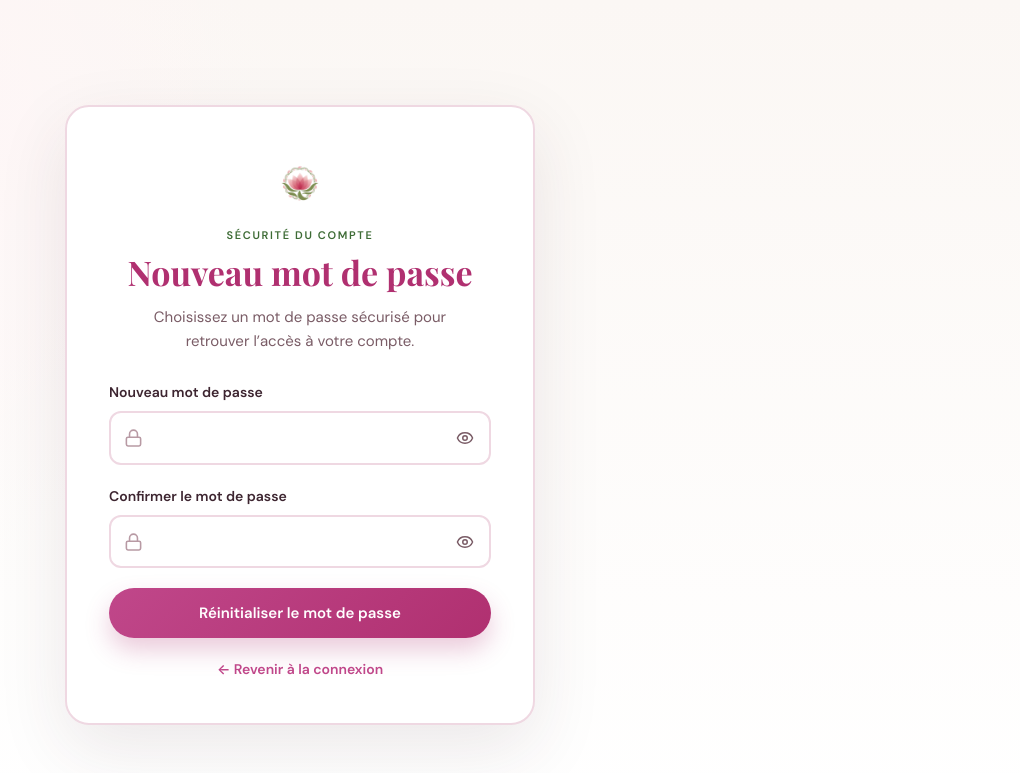
Test: Flora et récupération de compte › réinitialise un mot de passe valide
This screenshot has width=1020, height=773.
Type "LongPassword123!" into the password field labelled "Nouveau mot de passe" at [300, 438], box [109, 411, 491, 464]
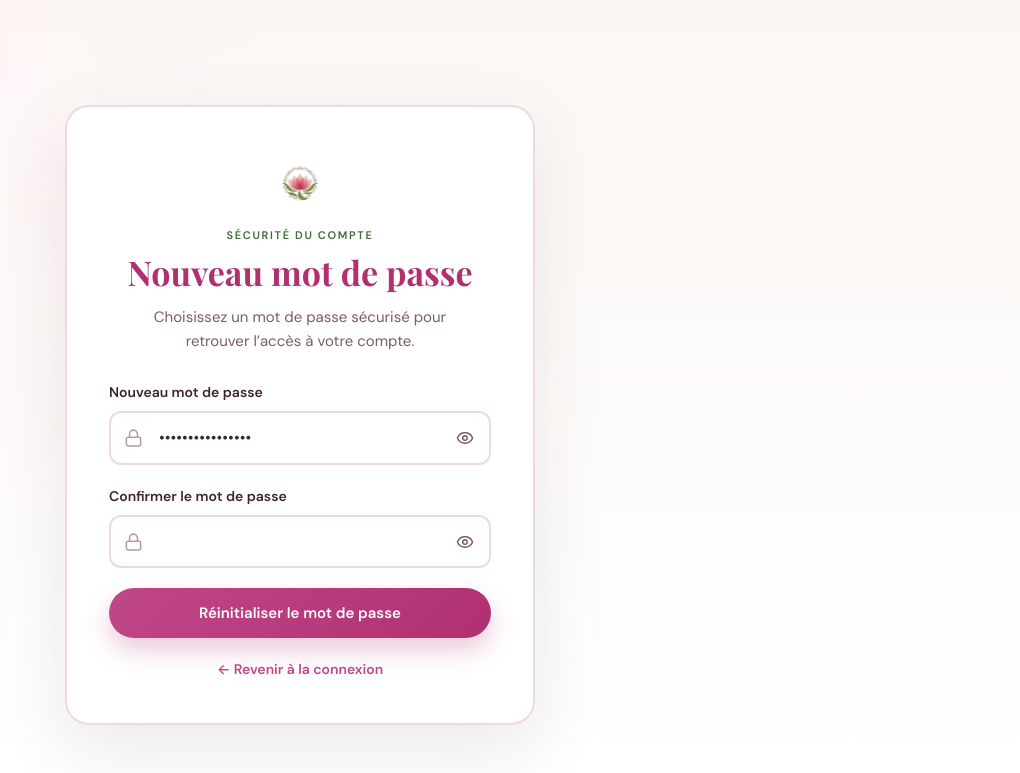
Type "LongPassword123!" into the password field labelled "Confirmer le mot de passe" at [300, 542], box [109, 515, 491, 568]
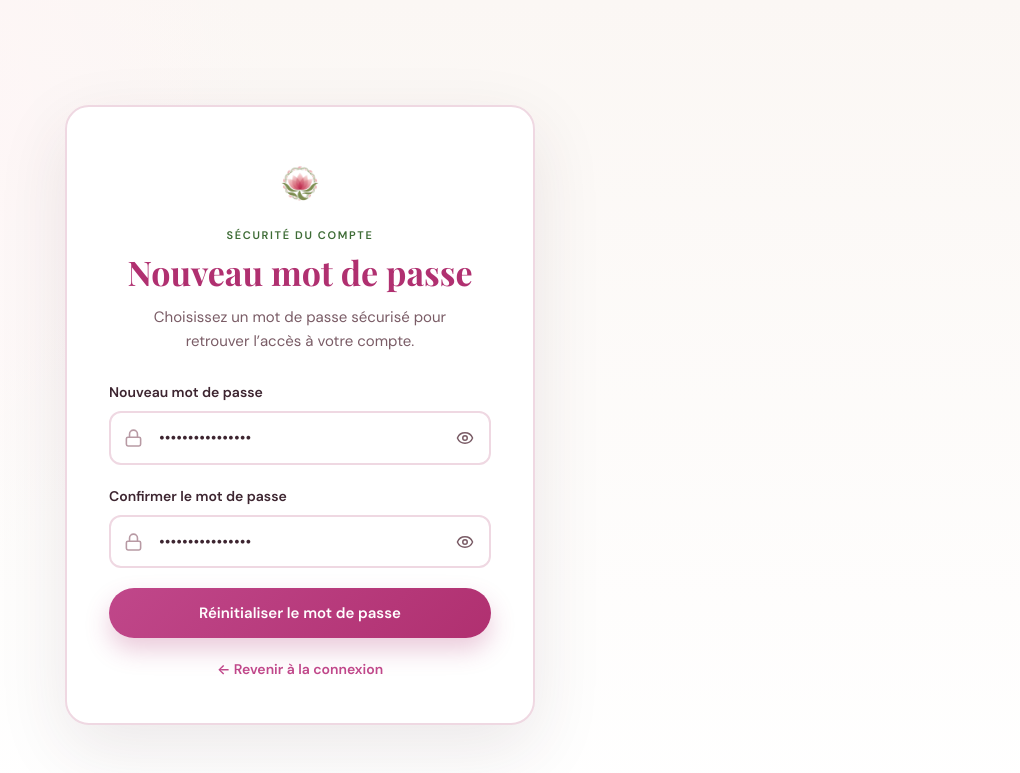
Click the button "Réinitialiser le mot de passe" at [300, 614], box [109, 588, 491, 638]
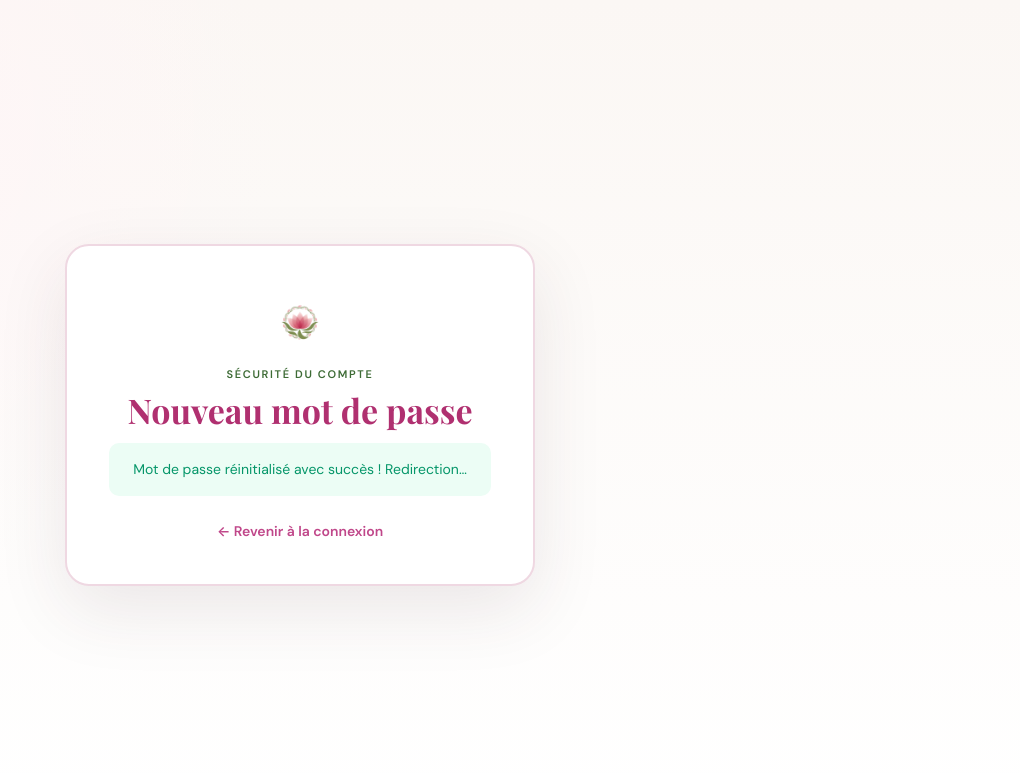
Expected: the text "Mot de passe réinitialisé avec succès ! Redirection…" is shown, [109, 443, 491, 496]
